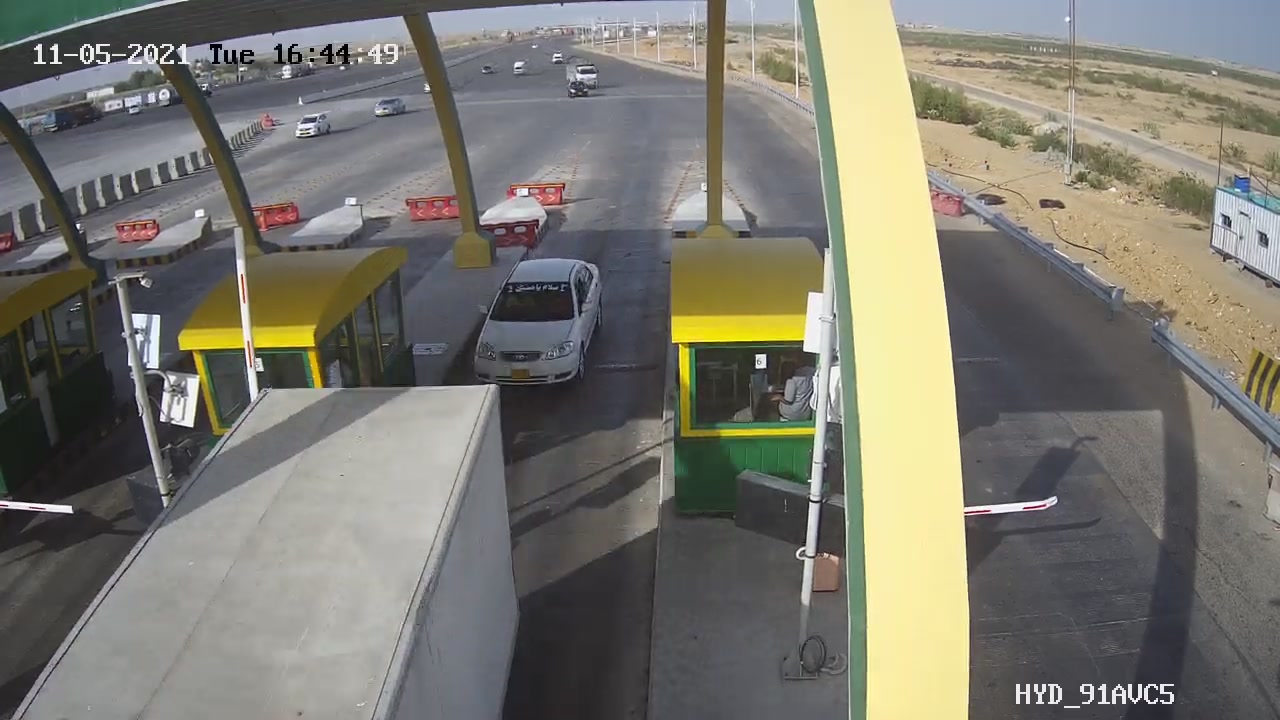F1: (448, 246, 620, 405)
